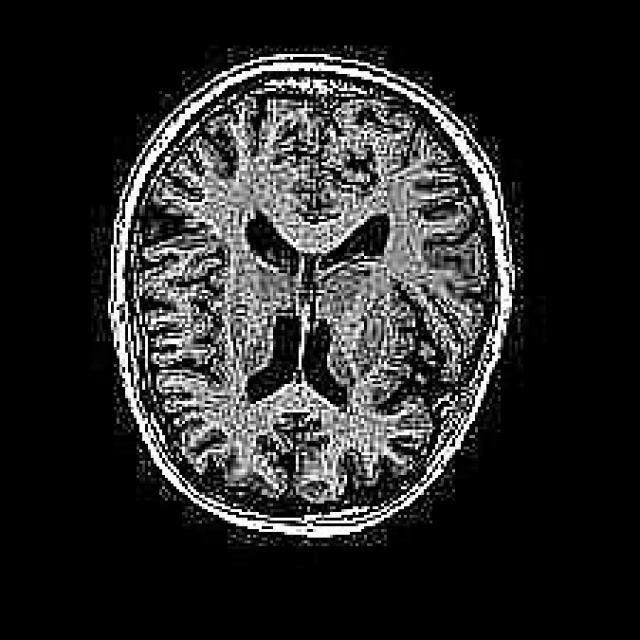notumor: (105, 51, 515, 546)
